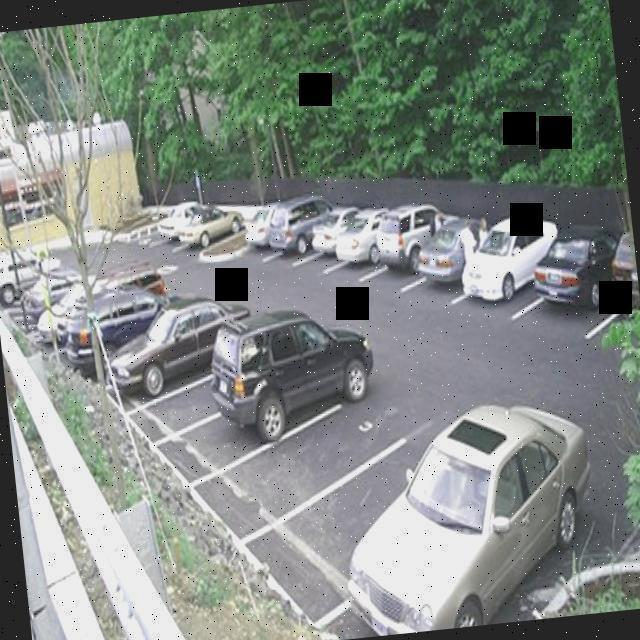space-empty: (251, 420, 445, 606), (219, 397, 380, 531), (139, 341, 251, 440)
space-occupied: (348, 435, 599, 637), (173, 342, 349, 474), (517, 221, 628, 346), (113, 298, 249, 400), (453, 209, 555, 333), (69, 281, 183, 373), (47, 271, 148, 362), (411, 203, 493, 310), (584, 227, 640, 365), (366, 201, 450, 292), (26, 274, 116, 352), (325, 200, 394, 289), (253, 191, 327, 272), (294, 197, 361, 279), (13, 271, 85, 337), (0, 240, 56, 316), (177, 200, 243, 259), (240, 195, 286, 267), (155, 199, 198, 246)
